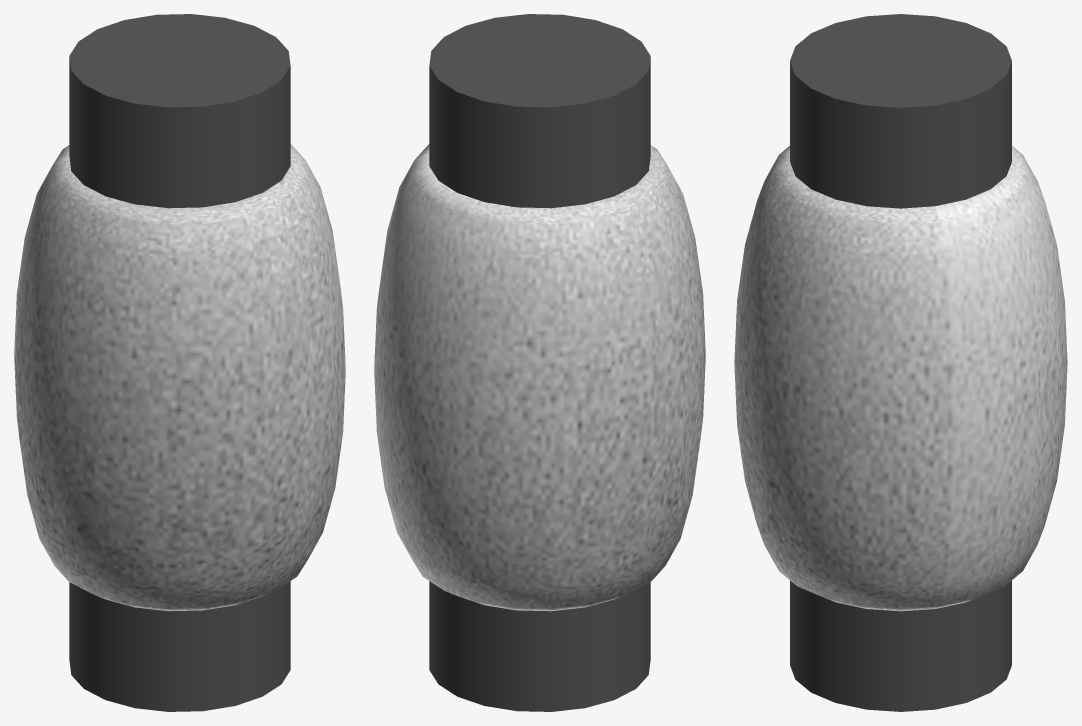
The picture shows the model from 3 angles, left to right: view 1: azimuth 30°, elevation 25°; view 2: azimuth 150°, elevation 25°; view 3: azimuth 270°, elevation 25°; orthographic projection.
Visible parts, largest first — view 1: polySurface1; view 2: polySurface1; view 3: polySurface1.
Boxes of the visible parts, x1=… form: polySurface1: x1=14, y1=14, x2=345, y2=711; polySurface1: x1=374, y1=14, x2=705, y2=711; polySurface1: x1=734, y1=14, x2=1067, y2=711.
Bounding box in the file's own units: 3 × 6 × 3.
2 materials, 1 textured.
